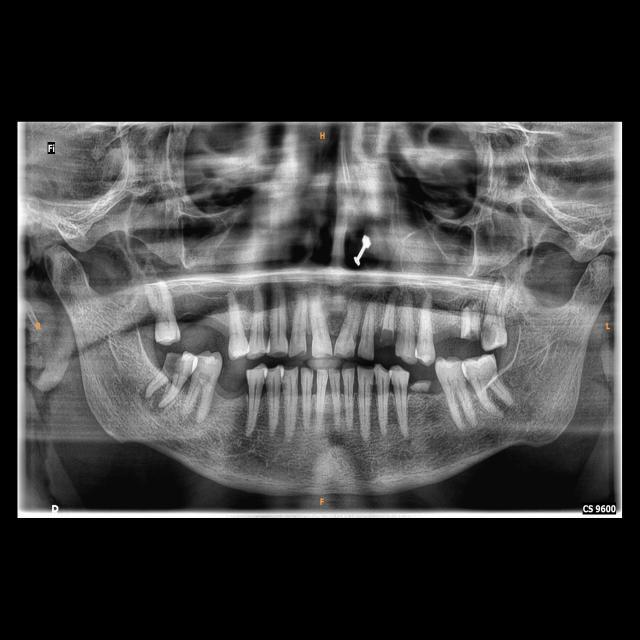dentin-curugu: (162, 353, 185, 378), (482, 322, 496, 346), (398, 324, 406, 348)
kirik: (459, 324, 482, 344), (379, 322, 394, 347)
